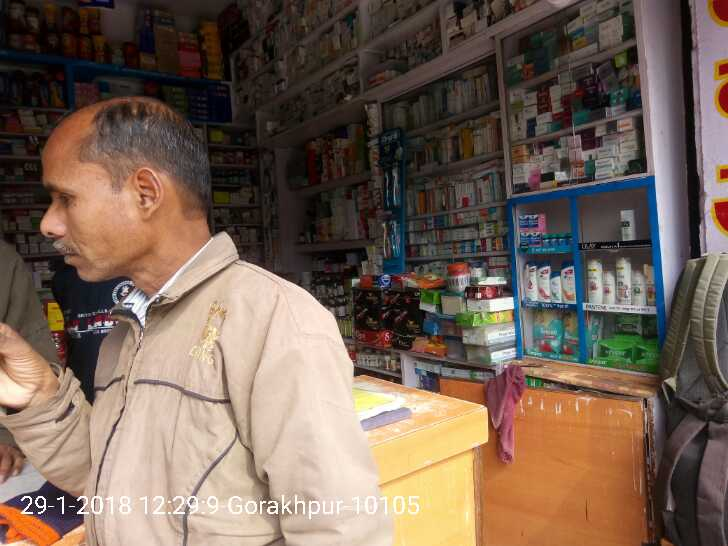oralcare: (377, 128, 403, 271)
vicks: (518, 211, 574, 246)
